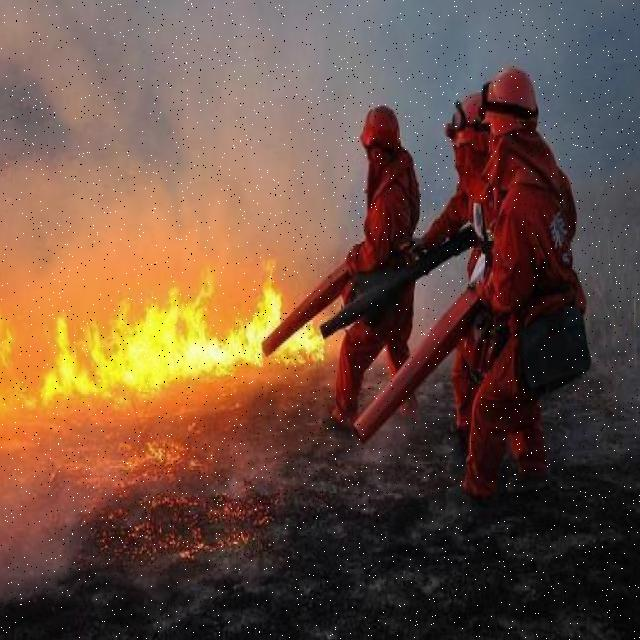fire: (0, 288, 340, 393)
